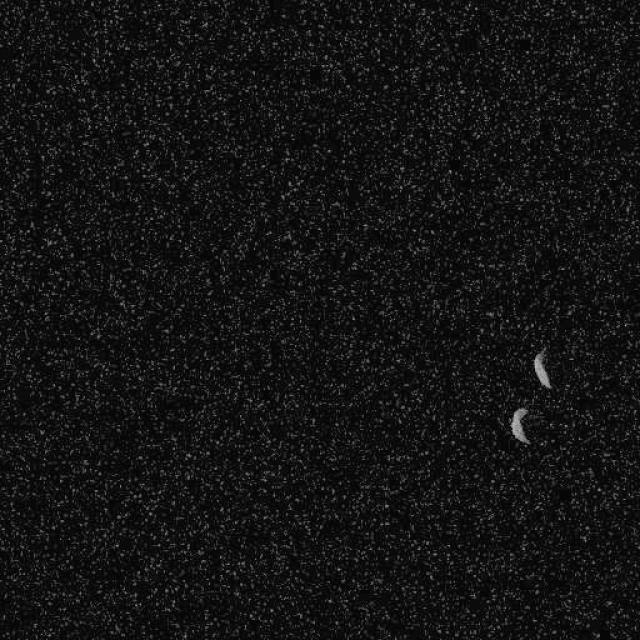D2: (509, 406, 531, 445), (532, 349, 552, 390)
